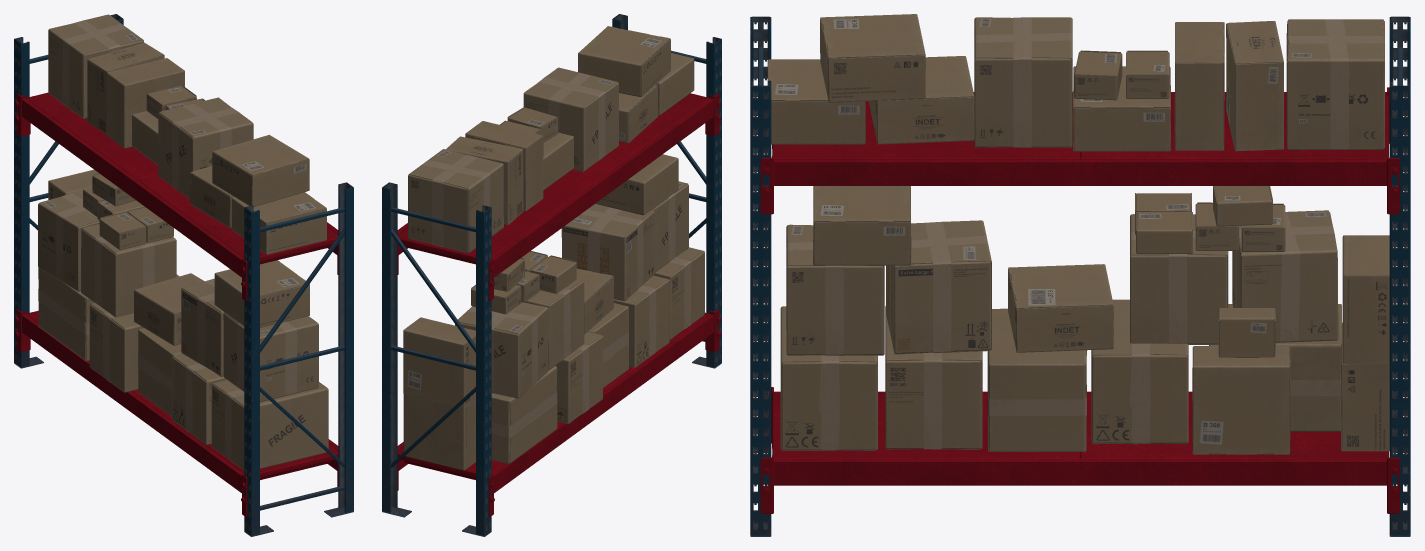
File: Rack_Long.glb
3 views of the same model, side by side, from view 1: azimuth 30°, elevation 25°; view 2: azimuth 150°, elevation 25°; view 3: azimuth 270°, elevation 25° (orthographic). The views are drawn at different scales.
Visible parts, largest first — view 1: RackLegs_A1_1x4_01, RackShelf_A2_1x4_01, Cardbox_A2_01, RackShelf_A1_1x4_02, Cardbox_B2_02, Cardbox_B1, Cardbox_B2, Cardbox_C2.001, Cardbox_B2_03, Cardbox_B2_01, Cardbox_C2_06, Cardbox_C1 (+16 smaller); view 2: RackLegs_A1_1x4_01, RackShelf_A2_1x4_01, Cardbox_B2_03, RackShelf_A1_1x4_02, Cardbox_B3, Cardbox_B2_02, Cardbox_C2_03, Cardbox_B2_01, Cardbox_C2.001, Cardbox_C2_04, Cardbox_A1, Cardbox_A2_02 (+17 smaller); view 3: RackShelf_A2_1x4_01, RackShelf_A1_1x4_02, RackLegs_A1_1x4_01, Cardbox_B2_02, Cardbox_B2_03, Cardbox_B3, Cardbox_A1_01, Cardbox_A2_02, Cardbox_B2_01, Cardbox_C2_05, Cardbox_B2, Cardbox_A2 (+21 smaller).
Boxes of the visible parts, x1,y1,x2,y2 form: RackLegs_A1_1x4_01: (14,14,353,536); RackShelf_A2_1x4_01: (14,92,338,300); Cardbox_A2_01: (211,380,328,470); RackShelf_A1_1x4_02: (14,309,338,516); Cardbox_B2_02: (158,97,253,198); Cardbox_B1: (81,224,176,317); Cardbox_B2: (223,312,318,402); Cardbox_C2.001: (212,134,309,206); Cardbox_B2_03: (48,14,143,118); Cardbox_B2_01: (38,187,99,291); Cardbox_C2_06: (214,260,309,327); Cardbox_C1: (107,58,184,148); RackLegs_A1_1x4_01: (382,14,721,536); RackShelf_A2_1x4_01: (397,93,721,300); Cardbox_B2_03: (408,149,503,253); RackShelf_A1_1x4_02: (397,309,721,516); Cardbox_B3: (561,203,654,301); Cardbox_B2_02: (523,67,618,171); Cardbox_C2_03: (403,317,475,407); Cardbox_B2_01: (455,302,548,398); Cardbox_C2.001: (578,26,670,96); Cardbox_C2_04: (403,394,475,470); Cardbox_A1: (491,366,557,463); Cardbox_A2_02: (555,332,602,424); RackShelf_A2_1x4_01: (760,87,1399,214); RackShelf_A1_1x4_02: (760,387,1399,513); RackLegs_A1_1x4_01: (750,16,1410,536); Cardbox_B2_02: (974,17,1072,147); Cardbox_B2_03: (1286,19,1384,149); Cardbox_B3: (886,220,991,354); Cardbox_A1_01: (987,308,1086,451); Cardbox_A2_02: (1091,299,1188,444); Cardbox_B2_01: (1232,210,1338,342); Cardbox_C2_05: (1192,346,1290,454); Cardbox_B2: (786,224,884,355); Cardbox_A2: (885,306,982,449).
Size of the model in its own units: 1.09 by 3.13 by 4.
12 materials, 12 textured.
